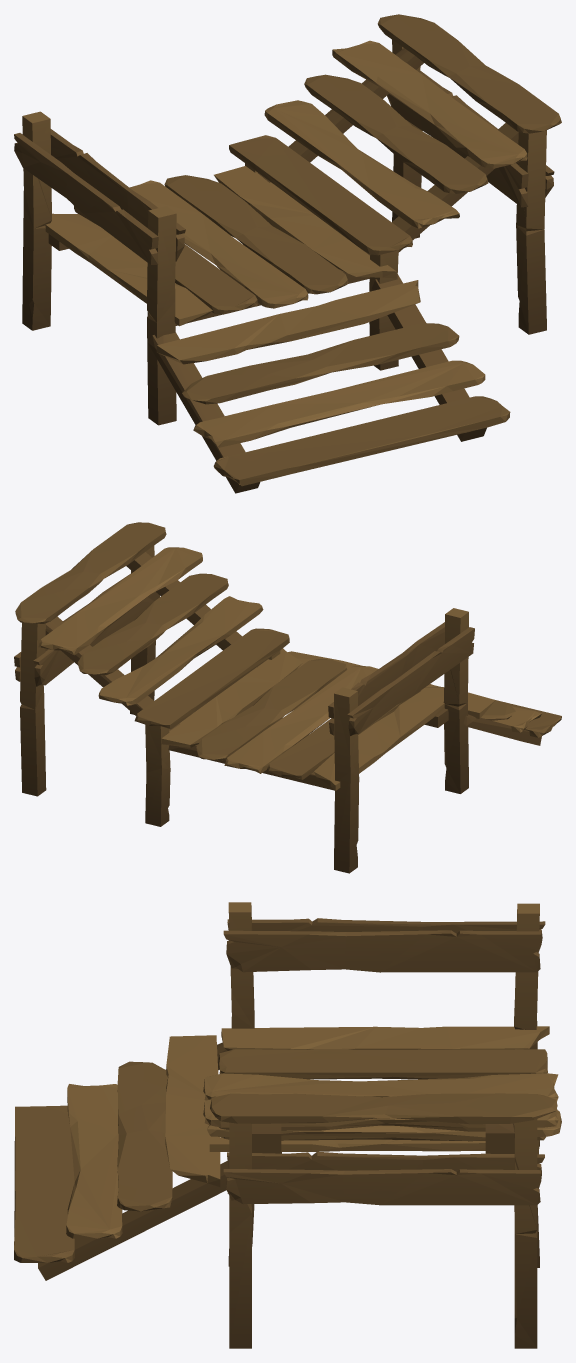
The model's file is Stairs_01.fbx.
3 renders of one model, top to bottom at view 1: azimuth 30°, elevation 25°; view 2: azimuth 150°, elevation 25°; view 3: azimuth 270°, elevation 25°, orthographic. The views are drawn at different scales.
Visible parts, largest first — view 1: Stairs_01; view 2: Stairs_01; view 3: Stairs_01.
Boxes of the visible parts, x1=… form: Stairs_01: x1=14, y1=14, x2=561, y2=493; Stairs_01: x1=14, y1=522, x2=561, y2=873; Stairs_01: x1=14, y1=902, x2=561, y2=1348.
Size of the model in its own units: 2.72 by 1.39 by 2.75.
